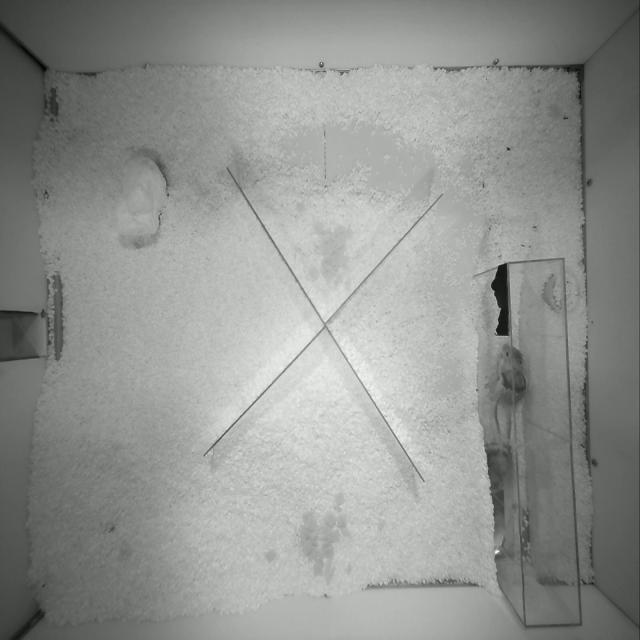adult_back: (485, 385, 510, 492)
adult_front: (492, 343, 529, 442)
